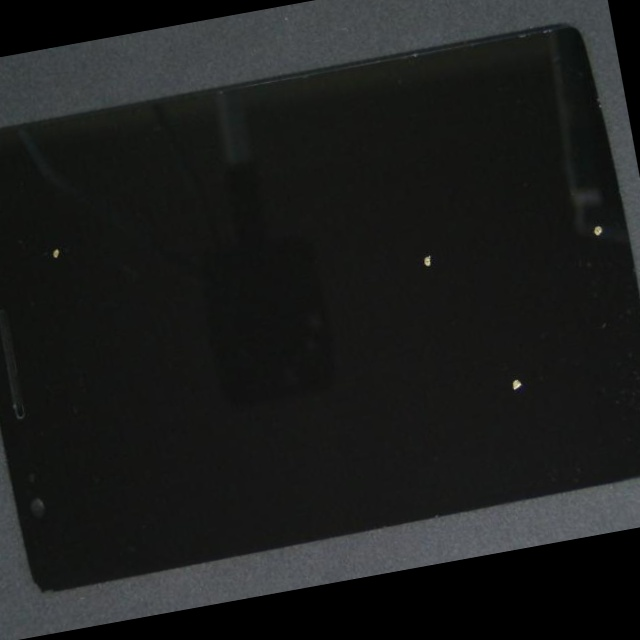stain: (211, 107, 640, 592), (141, 31, 640, 425), (280, 113, 640, 412), (0, 92, 121, 334)
